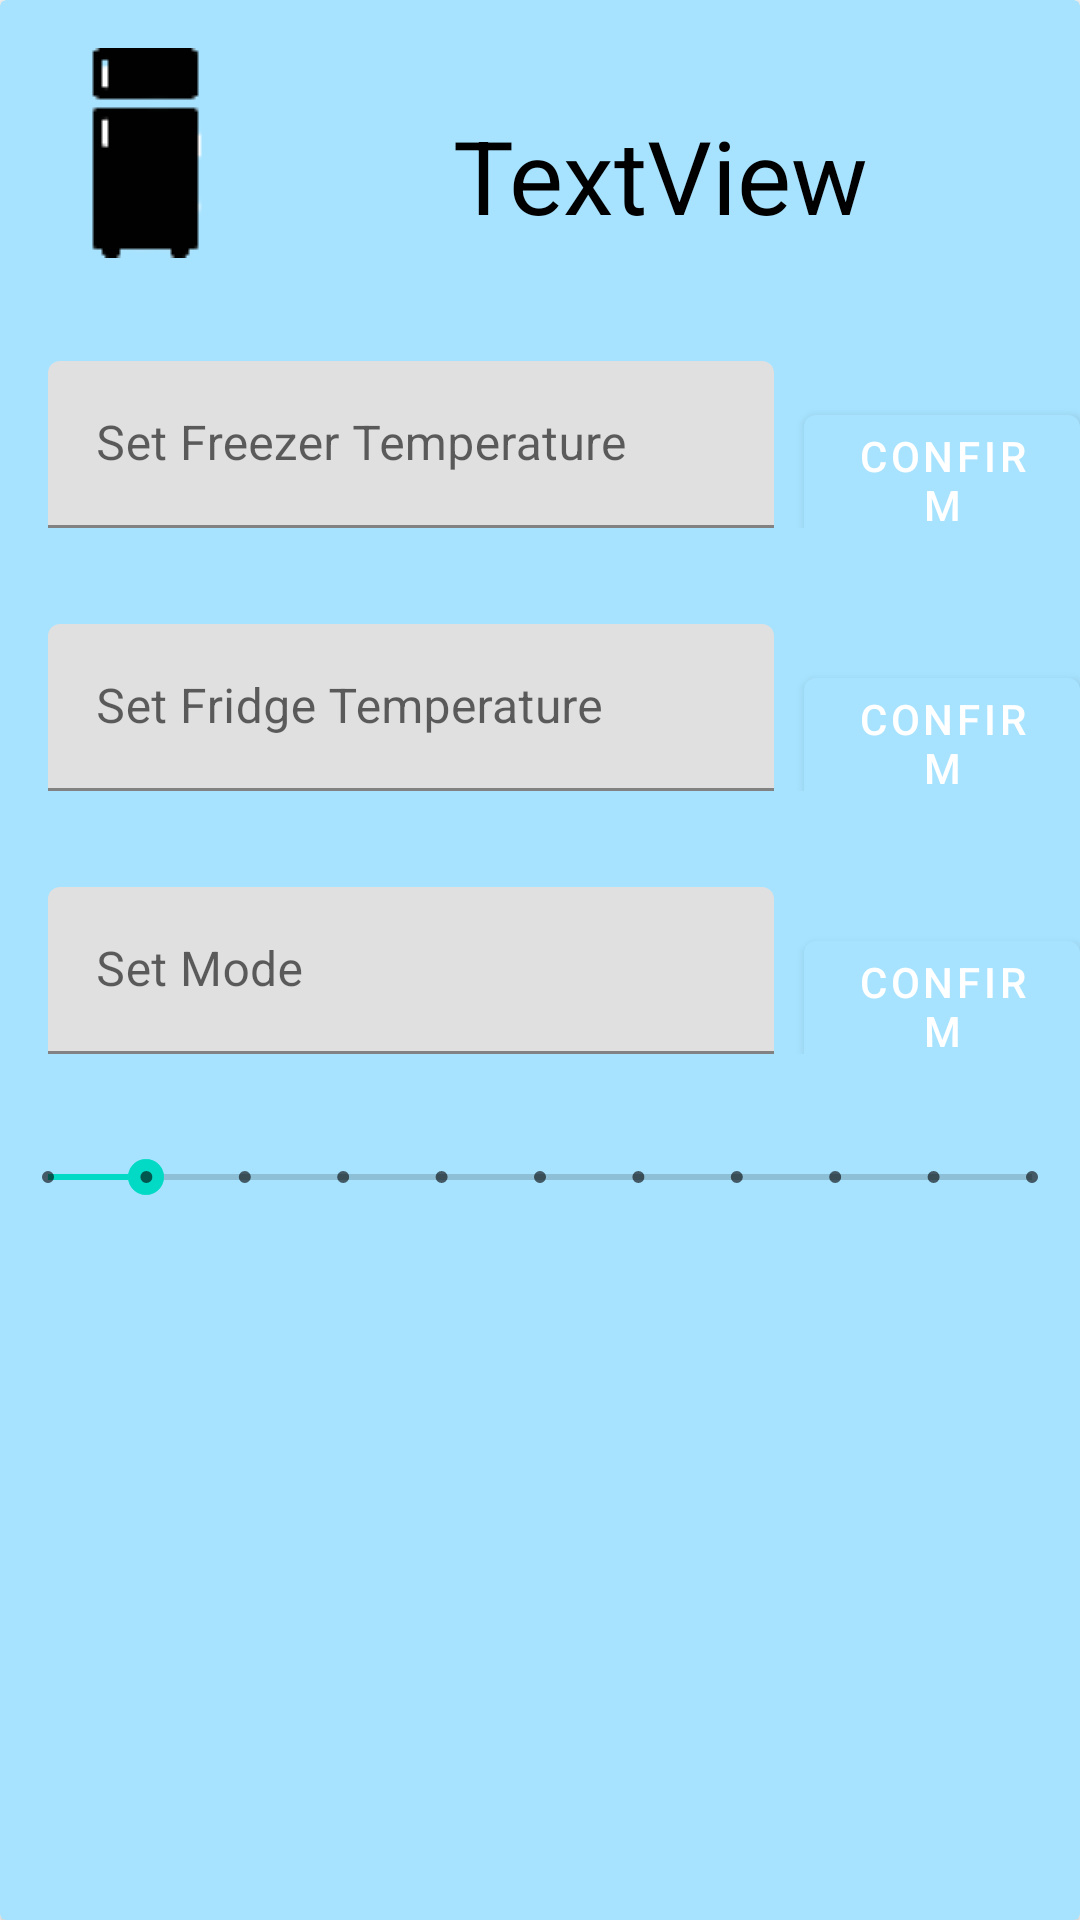

Where icons sit on this 1080×1920 app screen, as (x1, y1, x2, y2):
fridge: (92, 48, 202, 258)
